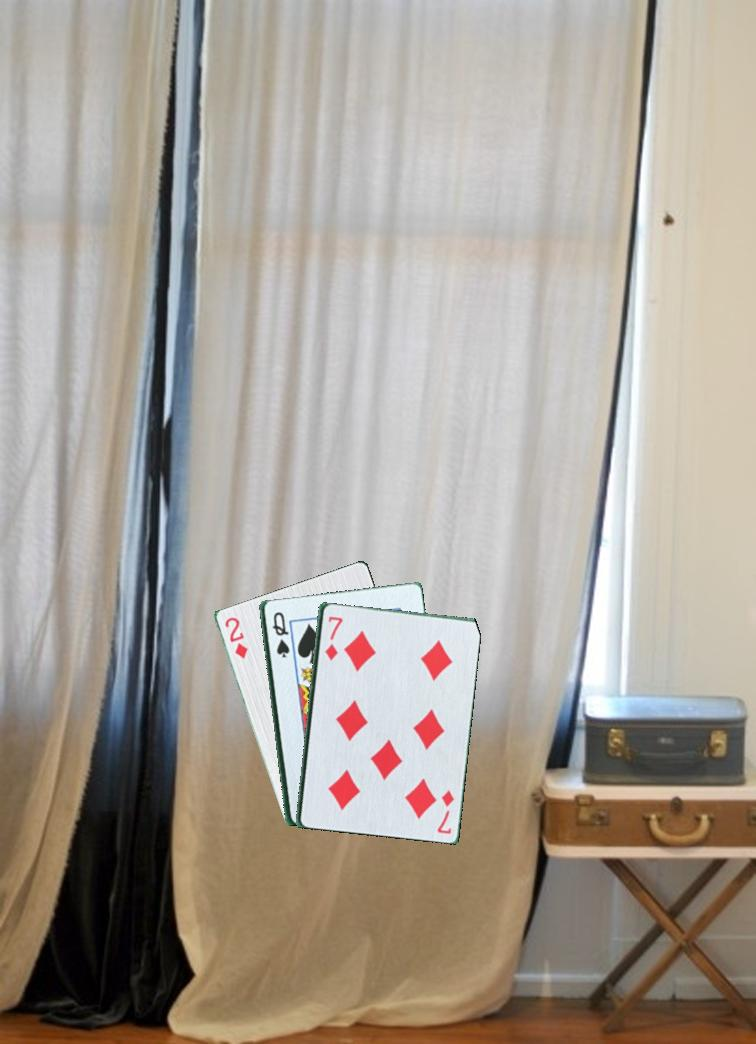2d: (219, 608, 250, 662)
7d: (433, 783, 461, 839), (321, 613, 343, 665)
qs: (269, 608, 291, 660)
